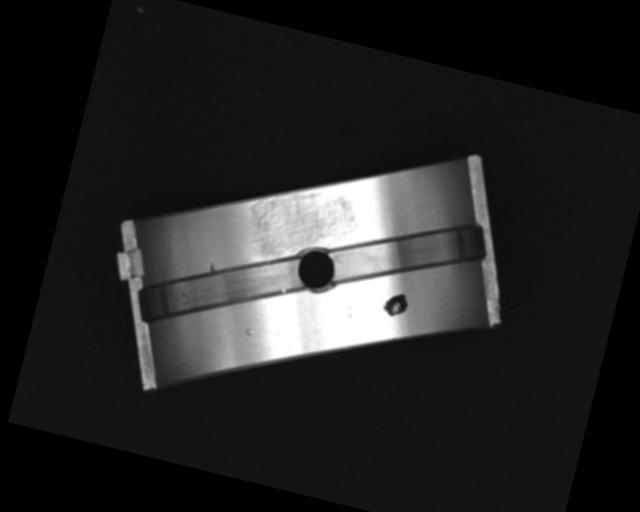blot: (380, 288, 411, 320)
bruise: (205, 261, 218, 276), (243, 326, 254, 338)
gap: (137, 220, 316, 359), (319, 181, 493, 320)
hole: (286, 241, 344, 300)
scratch: (239, 172, 367, 281)
